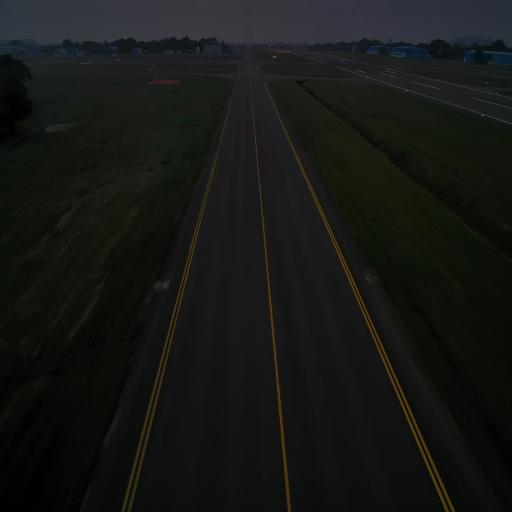on: (162, 275, 167, 285), (367, 272, 371, 282)
